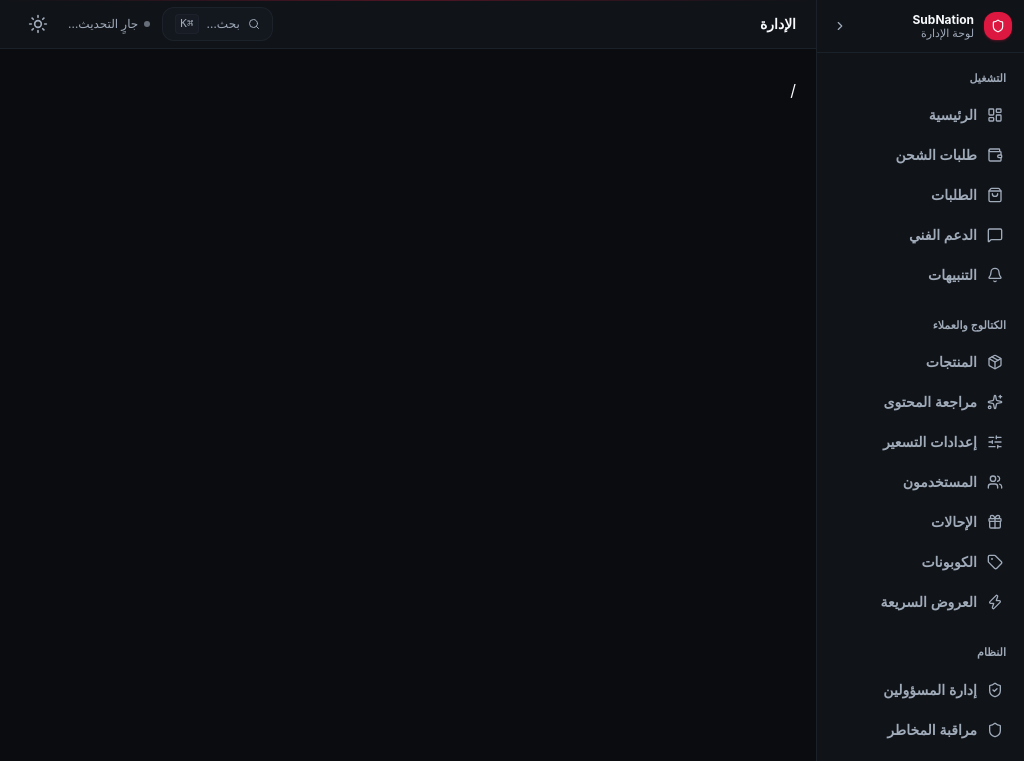
Test case: AdminLayout GlobalSearch — no more silent failures or stale races (A2 P2-3) › a late-resolving OLDER response is dropped — results match the typed query
Step 1. Click the button "بحث… ⌘K" → (218,24), box x1=162 y1=7 x2=273 y2=41
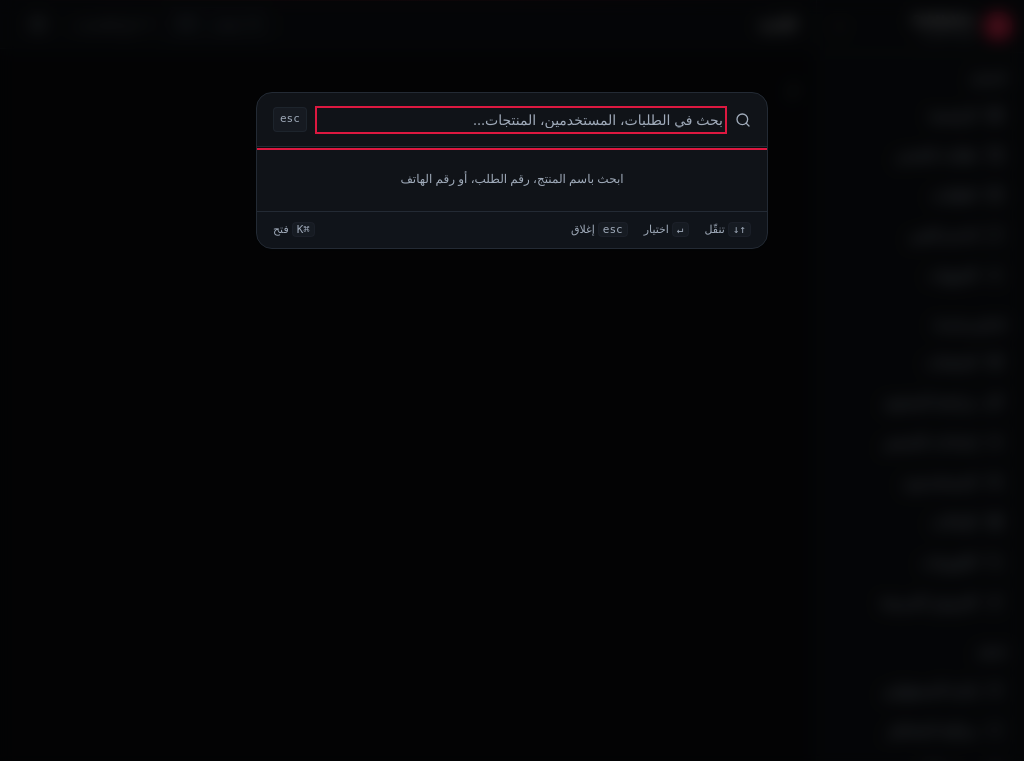
Step 2. Type "ab" into the dropdown with placeholder "بحث في الطلبات، المستخدمين، المنتجات…" → (521,120), box x1=319 y1=110 x2=723 y2=130
Wait 220 ms
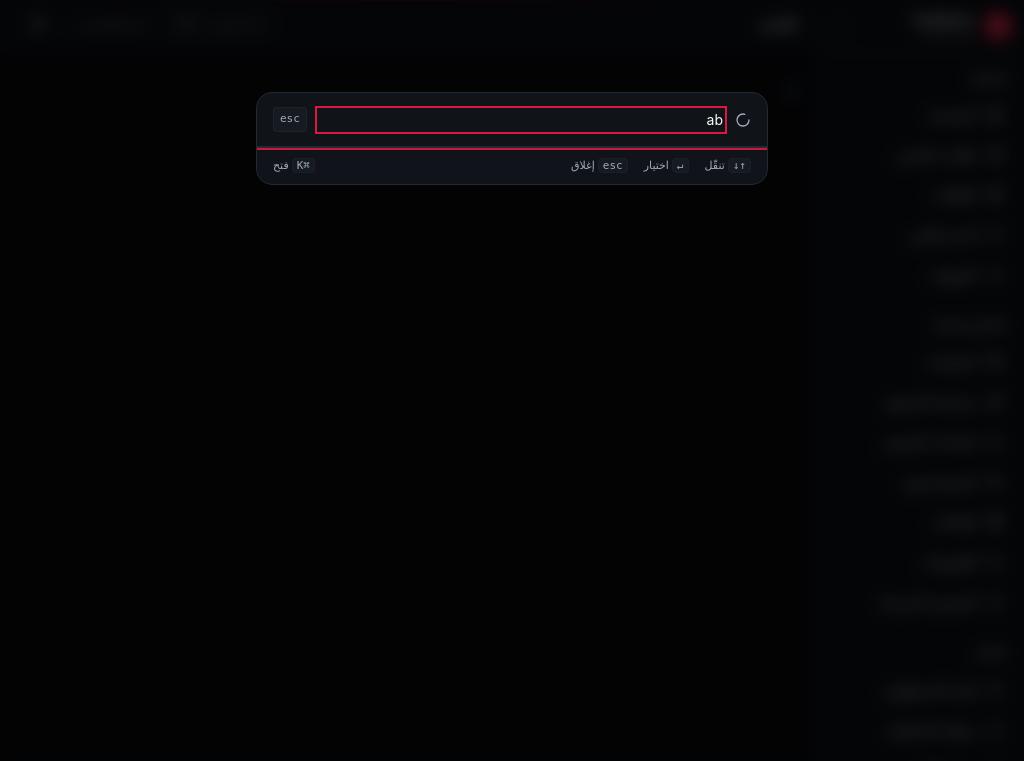
Step 3. Replace the text in the dropdown with placeholder "بحث في الطلبات، المستخدمين، المنتجات…" with "abc" → (521,120), box x1=319 y1=110 x2=723 y2=130
Wait 620 ms
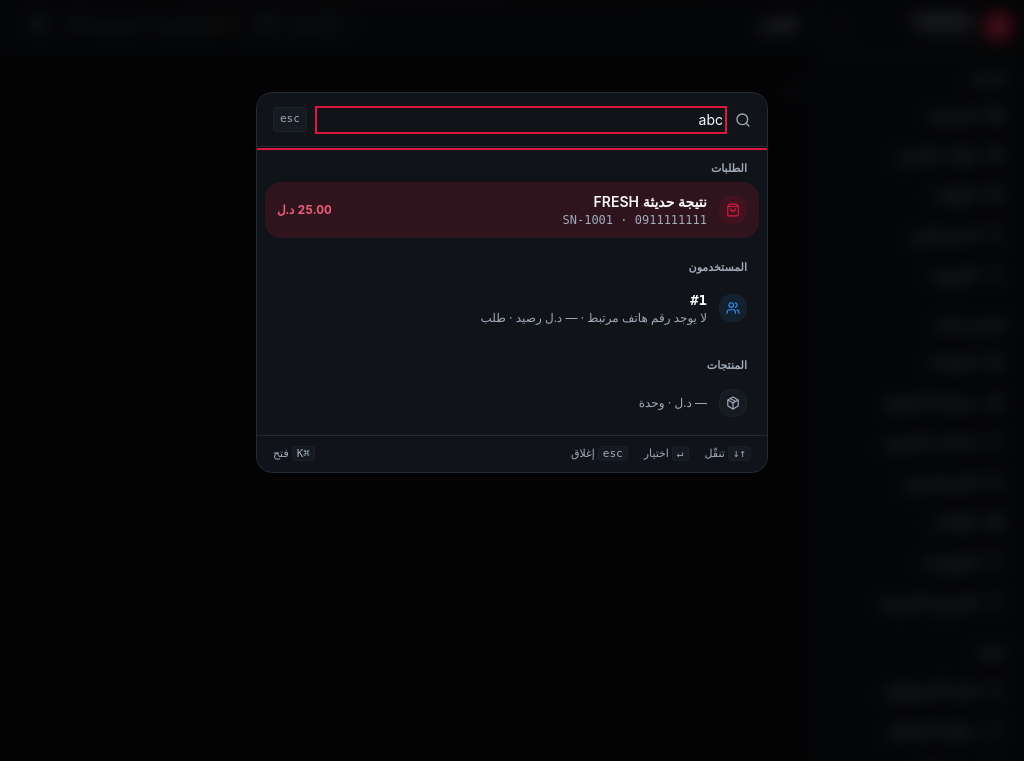
Result: the text "نتيجة حديثة FRESH" is shown at x1=594 y1=192 x2=707 y2=210
